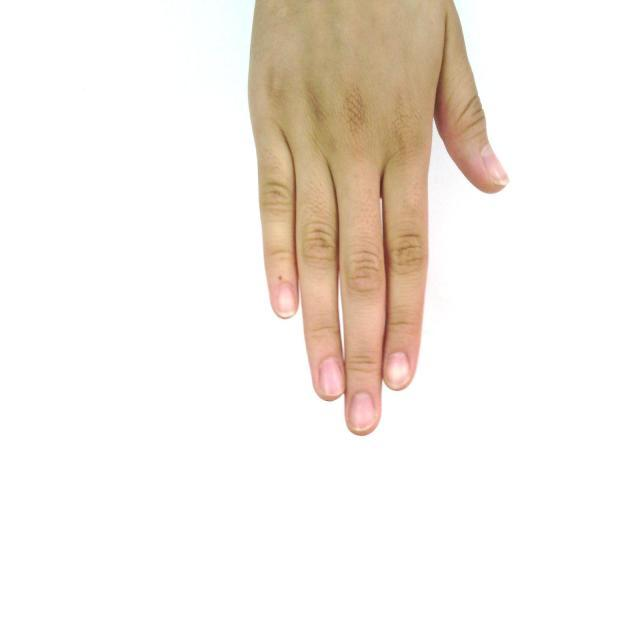Fingernail: (483, 147, 508, 184), (350, 393, 375, 428), (385, 352, 409, 388), (321, 359, 343, 396), (277, 284, 295, 317)
